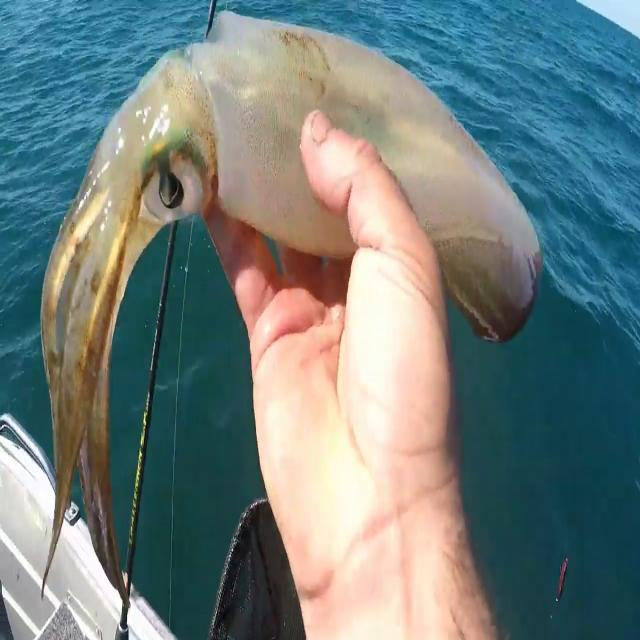squid: (41, 9, 542, 608)
